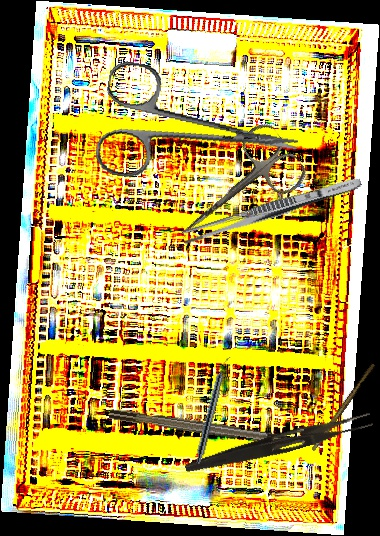Dressing Forceps: (183, 405, 374, 483), (180, 172, 364, 248)
Handpiece: (194, 354, 231, 466)
Hook Surgical: (108, 406, 322, 453)
Iris Scissors: (92, 58, 307, 206), (161, 118, 312, 259)
Scalpel Handle: (311, 362, 376, 453)
